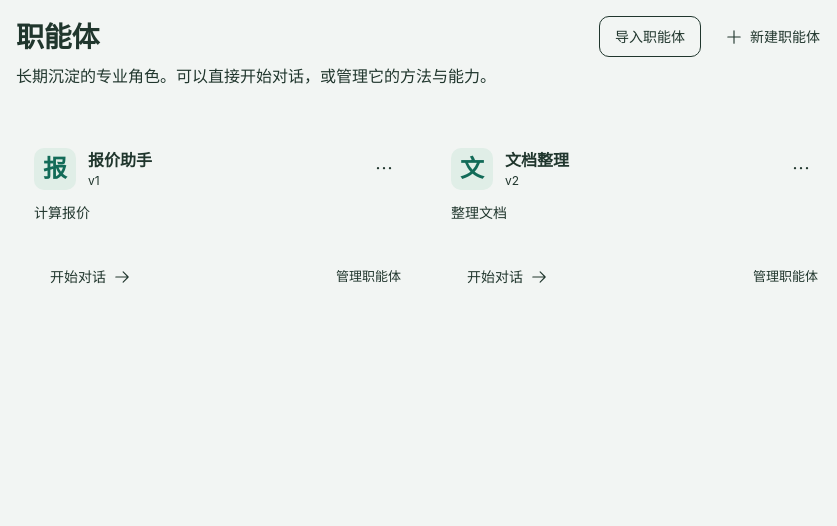
clicking "编辑名称与用途" opens the metadata editor inline
Expected: the text "报价助手" is shown, [88,150,152,170]
Click the button named "更多操作".
click(385, 169)  # box [369,153,401,185]
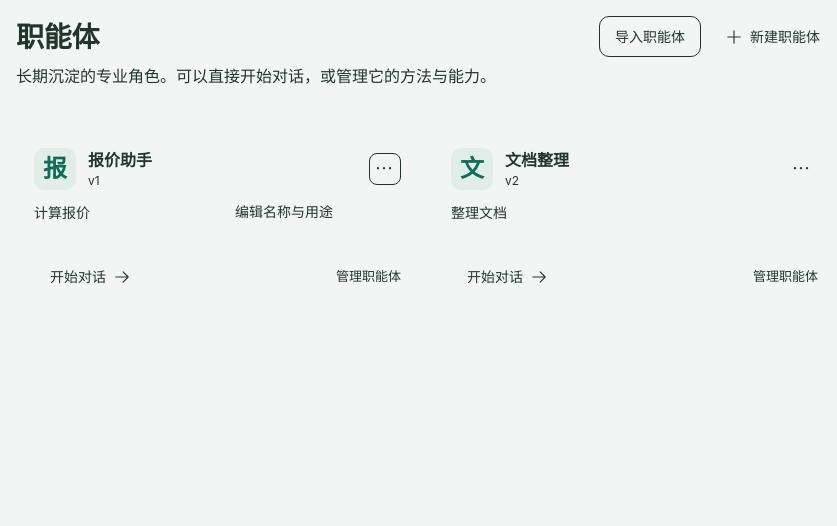
Click the menu item "编辑名称与用途".
click(311, 212)  # box [225,193,397,230]
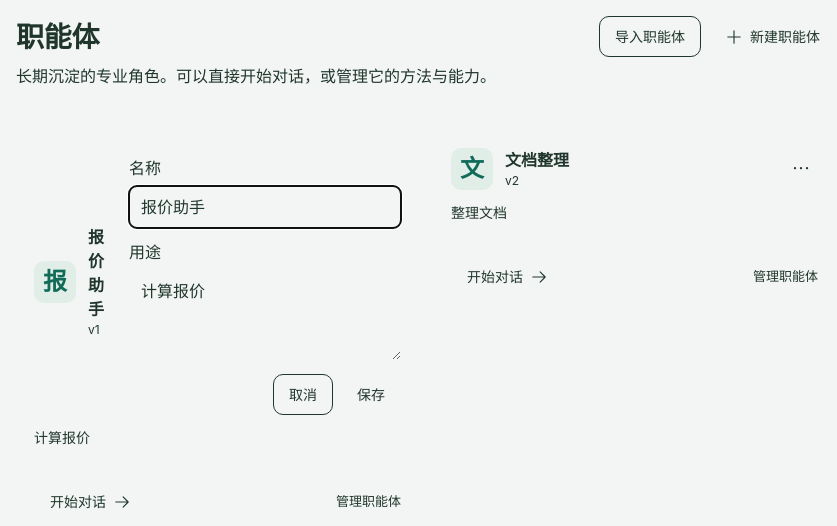
Result: the form with test id "metadata-editor" is shown at [129,156,401,415]
Result: the field labelled "名称" is shown at [129,186,401,228]
Result: the text box labelled "用途" is shown at [129,270,401,360]
